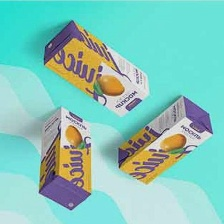carton: (38, 16, 151, 119), (113, 92, 217, 187), (36, 103, 94, 211)
